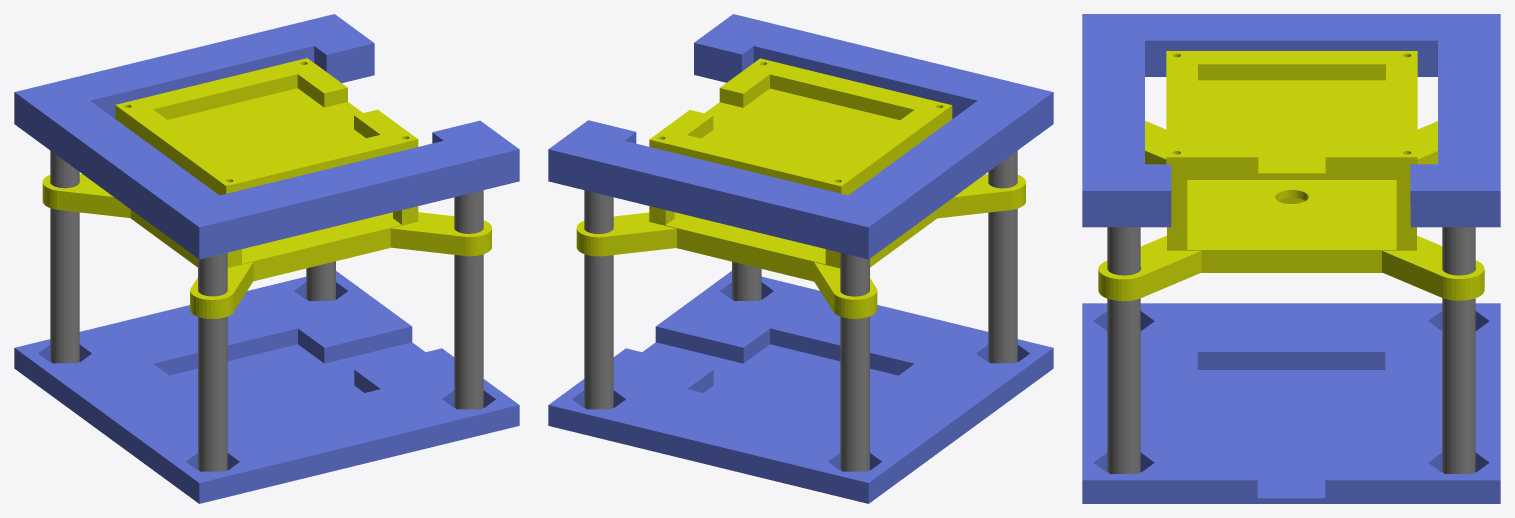
3 views of the same model, side by side, from view 1: azimuth 30°, elevation 25°; view 2: azimuth 150°, elevation 25°; view 3: azimuth 270°, elevation 25° (orthographic). The views are drawn at different scales.
Parts seen in each view (by area): view 1: CE3_tes3t.001, CE3_tes3t, Cylinder.004, Cylinder.007, Cylinder.006, Cylinder.005; view 2: CE3_tes3t.001, CE3_tes3t, Cylinder.005, Cylinder.006, Cylinder.007, Cylinder.004; view 3: CE3_tes3t.001, CE3_tes3t, Cylinder.005, Cylinder.004.
Part boxes in pixels (box(x1,y1,x2,y2)): CE3_tes3t.001: box(14, 14, 519, 503); CE3_tes3t: box(42, 58, 491, 318); Cylinder.004: box(454, 190, 483, 409); Cylinder.007: box(198, 252, 227, 471); Cylinder.006: box(50, 151, 79, 363); Cylinder.005: box(306, 261, 335, 300); CE3_tes3t.001: box(548, 14, 1053, 503); CE3_tes3t: box(576, 58, 1025, 318); Cylinder.005: box(584, 190, 613, 409); Cylinder.006: box(840, 252, 869, 471); Cylinder.007: box(988, 151, 1017, 363); Cylinder.004: box(732, 261, 761, 300); CE3_tes3t.001: box(1082, 14, 1500, 503); CE3_tes3t: box(1098, 51, 1484, 301); Cylinder.005: box(1442, 227, 1475, 473); Cylinder.004: box(1107, 227, 1140, 473).
Bounding box in the file's own units: 10000 × 8253 × 10000.
